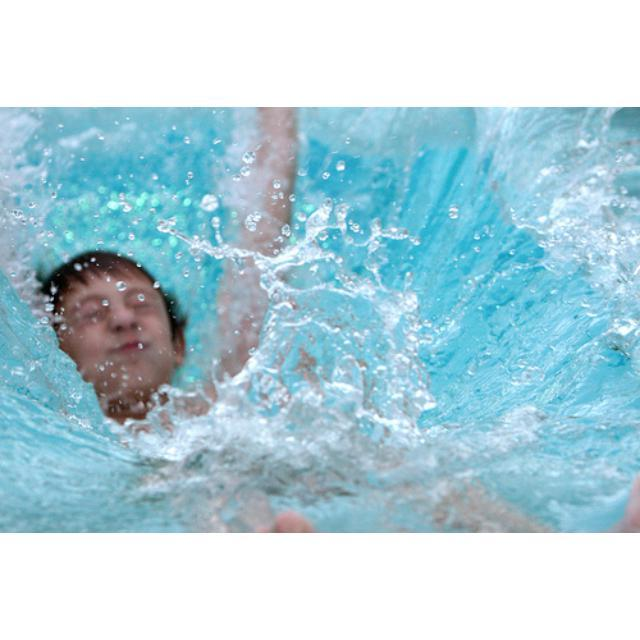human: (31, 244, 198, 421)
